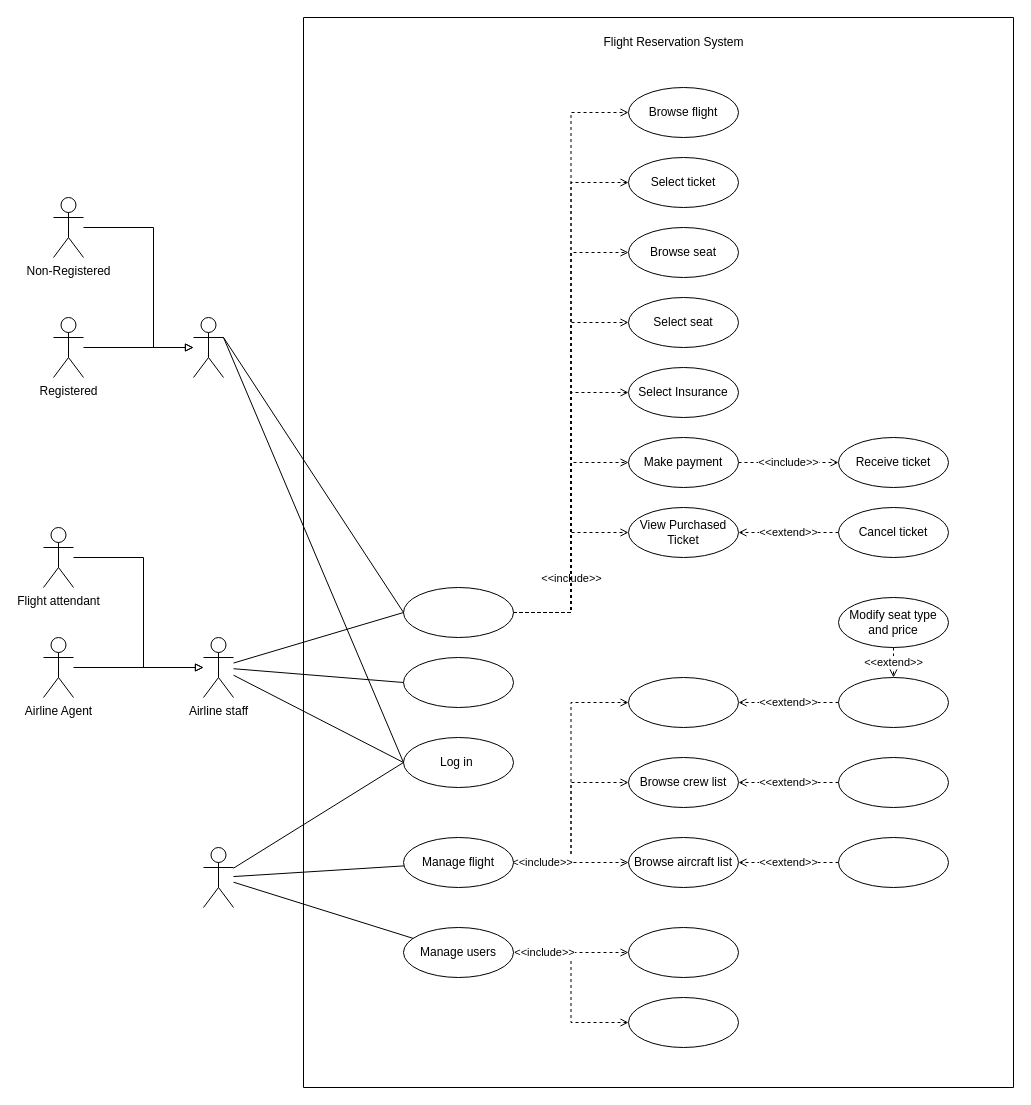
Some shapes in this 1031 by 1105 pixel diagram are drawn without their labels. Here are the shapes that lost their labels. From the top down, the centre of each, then its label:
the point at 208,347: Customer
the point at 458,612: Book flight
the point at 458,682: Browse passenger list in a flight
the point at 683,702: Browse flight list
the point at 893,702: Modify flight
the point at 893,782: Modify crew
the point at 218,877: System Admin
the point at 893,862: Modify aircraft in the list
the point at 683,952: Print user list
the point at 683,1022: Manage membership perks
